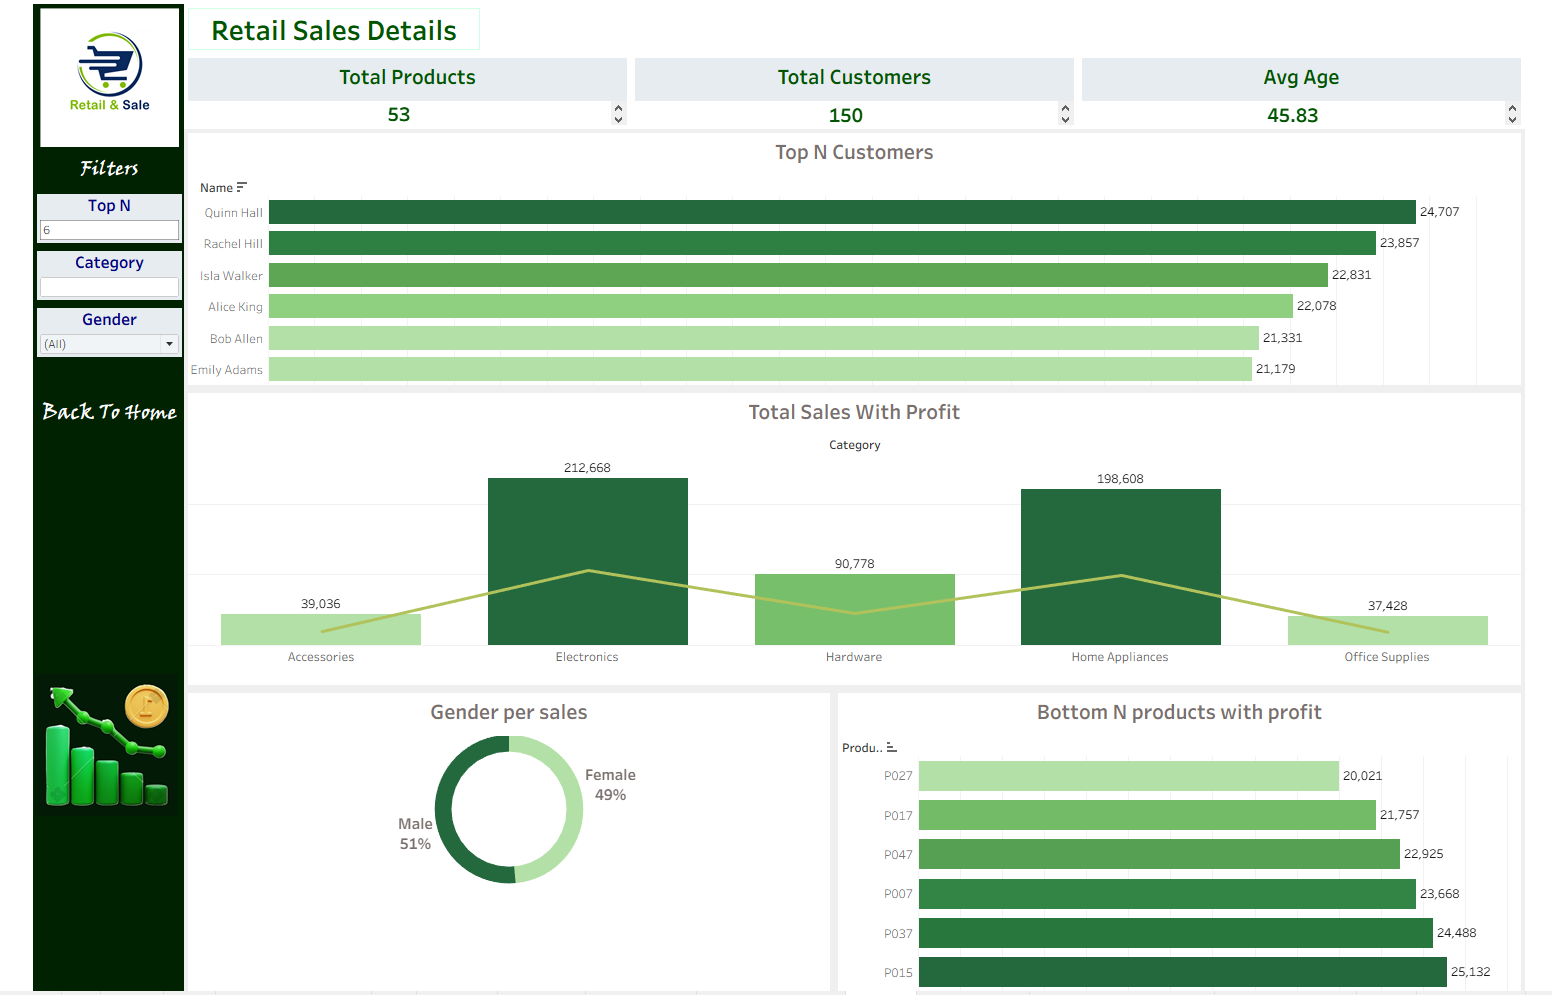

This screenshot's page, from the dashboard's own definition file:
{"tool":"tableau","page":{"name":"Details","canvas":[1500,1000],"ordinal":0},"visuals":[{"type":"image","param":"C:/Users/Mohamed/Downloads/green retail.jpg","box":[0,0,153,147]},{"type":"text","box":[151,0,300,50]},{"type":"blank","box":[451,0,1041,50]},{"type":"worksheet","title":"Total Products","mark":"Automatic","box":[151,50,447,75]},{"type":"worksheet","title":"Total Customers","mark":"Automatic","box":[598,50,447,75]},{"type":"worksheet","title":"Avg Age","mark":"Automatic","box":[1045,50,447,75]},{"type":"worksheet","title":"Top N Customers","mark":"Automatic","rows":["Name"],"cols":["Calculation_0986580663074831"],"box":[151,125,1341,260]},{"type":"text","box":[0,147,153,39]},{"type":"parameter","param":"[Parameters].[Parameter 1]","box":[0,186,153,57]},{"type":"filter","title":"Top N Customers","param":"[federated.0udoxu00153jbq1d0ggg5180dox5].[none:Category:nk]","box":[0,243,153,57]},{"type":"filter","title":"Gender Dual Axis","param":"[federated.0udoxu00153jbq1d0ggg5180dox5].[none:Gender:nk]","box":[0,300,153,57]},{"type":"text","box":[0,357,153,108]},{"type":"worksheet","title":"Total Sales With Profit","mark":"Bar","rows":["Calculation_0986580660813838","Calculation_0986580663074831"],"cols":["Category"],"box":[151,385,1341,300]},{"type":"worksheet","title":"Gender Dual Axis","mark":"Pie","rows":["Calculation_0166620238352387","Calculation_0166620238352387"],"box":[151,685,650,307]},{"type":"worksheet","title":"Bottom N products with profit","mark":"Automatic","rows":["Product_ID"],"cols":["Calculation_0986580660813838"],"box":[801,685,691,307]}]}

Visuals, with their boxes on the page's 1500x1000 design canvas (x1, y1, x2, y2). These are canvas units, not pixel positions in the 1552x995 screenshot, which may show the page scaled, cropped or inside an application window:
image: bbox=[0, 0, 153, 147]
text: bbox=[151, 0, 451, 50]
blank: bbox=[451, 0, 1492, 50]
"Total Products" worksheet: bbox=[151, 50, 598, 125]
"Total Customers" worksheet: bbox=[598, 50, 1045, 125]
"Avg Age" worksheet: bbox=[1045, 50, 1492, 125]
"Top N Customers" worksheet: bbox=[151, 125, 1492, 385]
text: bbox=[0, 147, 153, 186]
parameter: bbox=[0, 186, 153, 243]
"Top N Customers" filter: bbox=[0, 243, 153, 300]
"Gender Dual Axis" filter: bbox=[0, 300, 153, 357]
text: bbox=[0, 357, 153, 465]
"Total Sales With Profit" worksheet (Bar marks): bbox=[151, 385, 1492, 685]
"Gender Dual Axis" worksheet (Pie marks): bbox=[151, 685, 801, 992]
"Bottom N products with profit" worksheet: bbox=[801, 685, 1492, 992]
